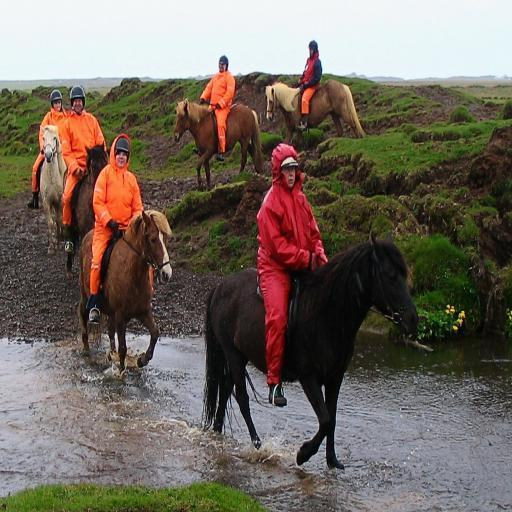horse: (200, 229, 419, 469), (79, 210, 174, 372), (170, 96, 263, 190), (265, 84, 370, 148), (64, 140, 110, 280), (36, 124, 72, 254)
